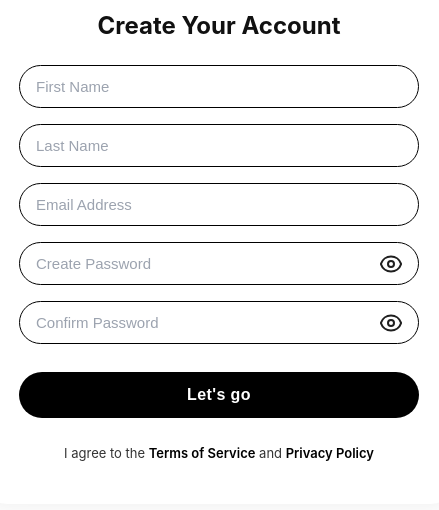
RegistrationForm › shows warning state when API returns field-specific error
The image size is (439, 510).
Step 1. Type "John" into the field with placeholder "First Name" → [219, 87], box [19,65,419,108]
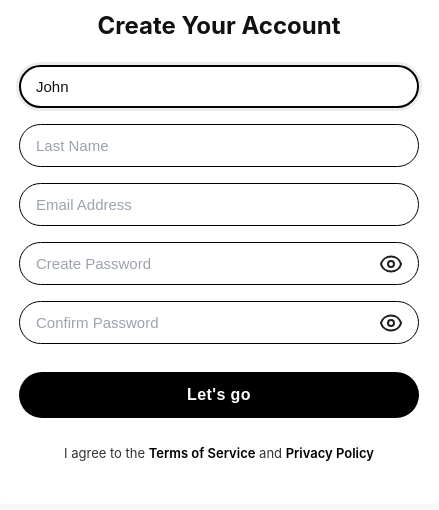
Step 2. Type "Doe" into the field with placeholder "Last Name" → [219, 146], box [19,124,419,167]
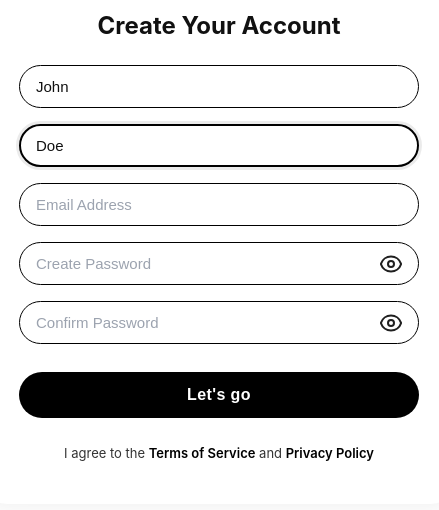
Step 3. Type "john@gmail.com" into the field with placeholder "Email Address" → [219, 205], box [19,183,419,226]
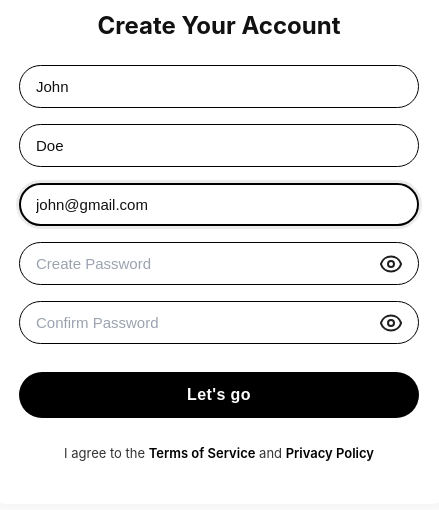
Step 4. Type "Password123!" into the password field with placeholder "Create Password" → [219, 264], box [19,242,419,285]
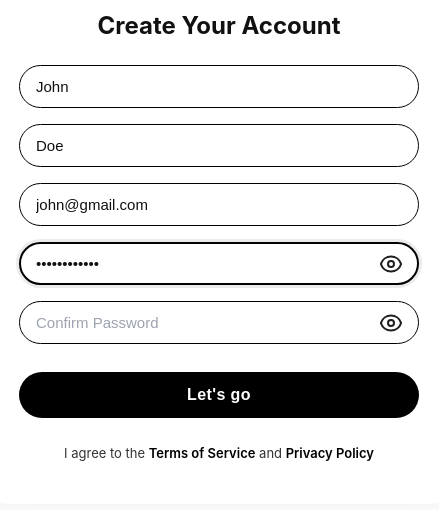
Step 5. Type "Password123!" into the password field with placeholder "Confirm Password" → [219, 323], box [19,301,419,344]
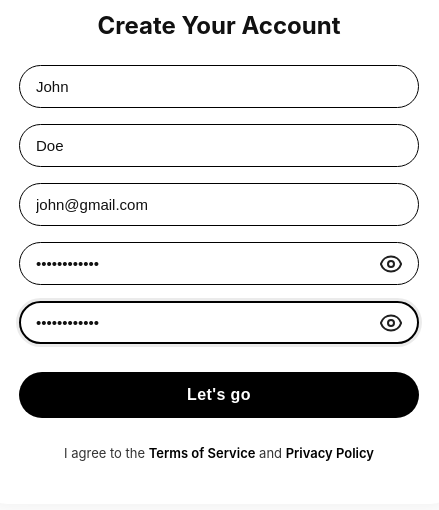
Step 6. Click the button "Let's go" → [219, 395], box [19,372,419,418]
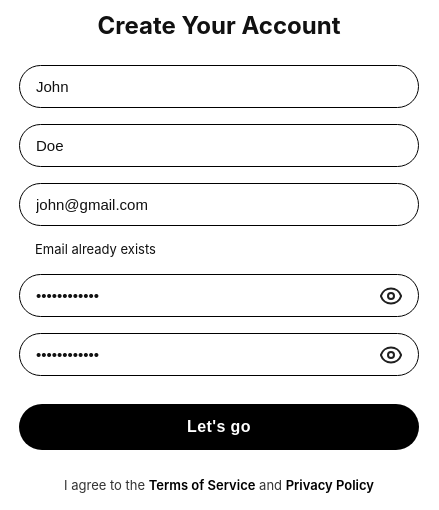
Expected: the text "Email already exists" is shown, [35,241,156,257]
